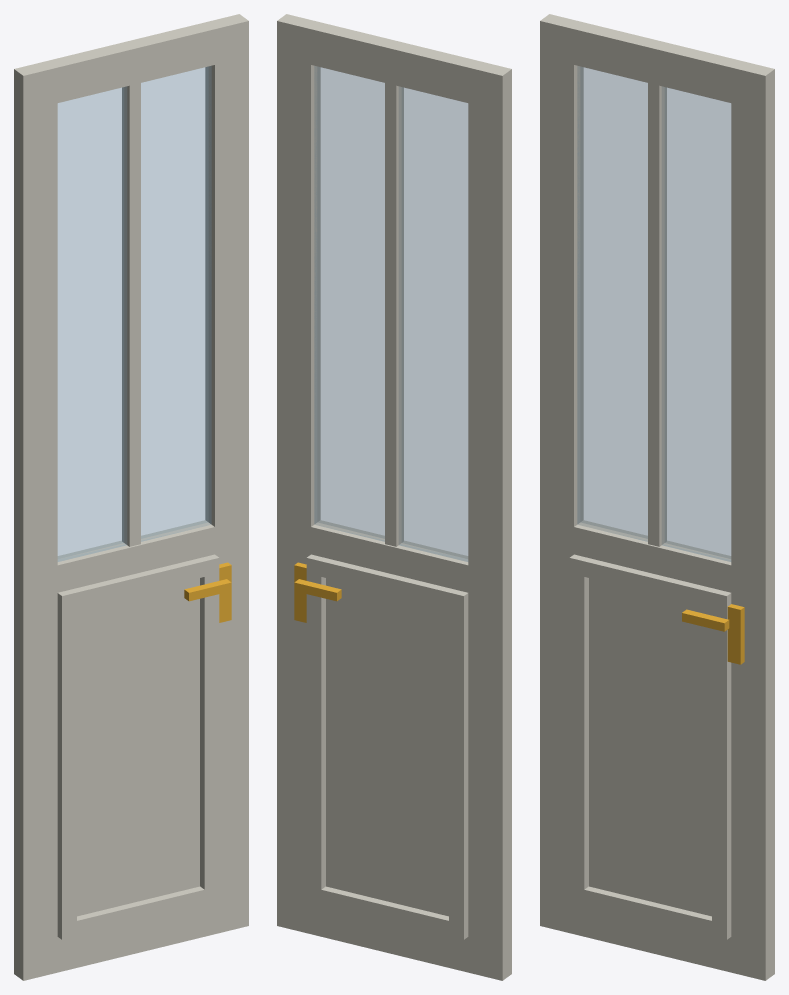
Rendered from SM_Door_ra_70x265.fbx.
The picture shows the model from 3 angles, left to right: view 1: azimuth 30°, elevation 25°; view 2: azimuth 150°, elevation 25°; view 3: azimuth 330°, elevation 25°; orthographic projection.
Parts seen in each view (by area): view 1: SM_Door_ra_70x265; view 2: SM_Door_ra_70x265; view 3: SM_Door_ra_70x265.
Boxes of the visible parts, left/top/right/bottom form: SM_Door_ra_70x265: left=14, top=14, right=248, bottom=980; SM_Door_ra_70x265: left=277, top=14, right=511, bottom=980; SM_Door_ra_70x265: left=540, top=14, right=774, bottom=980.
Bounding box in the file's own units: 0.688 × 2.64 × 0.175.
